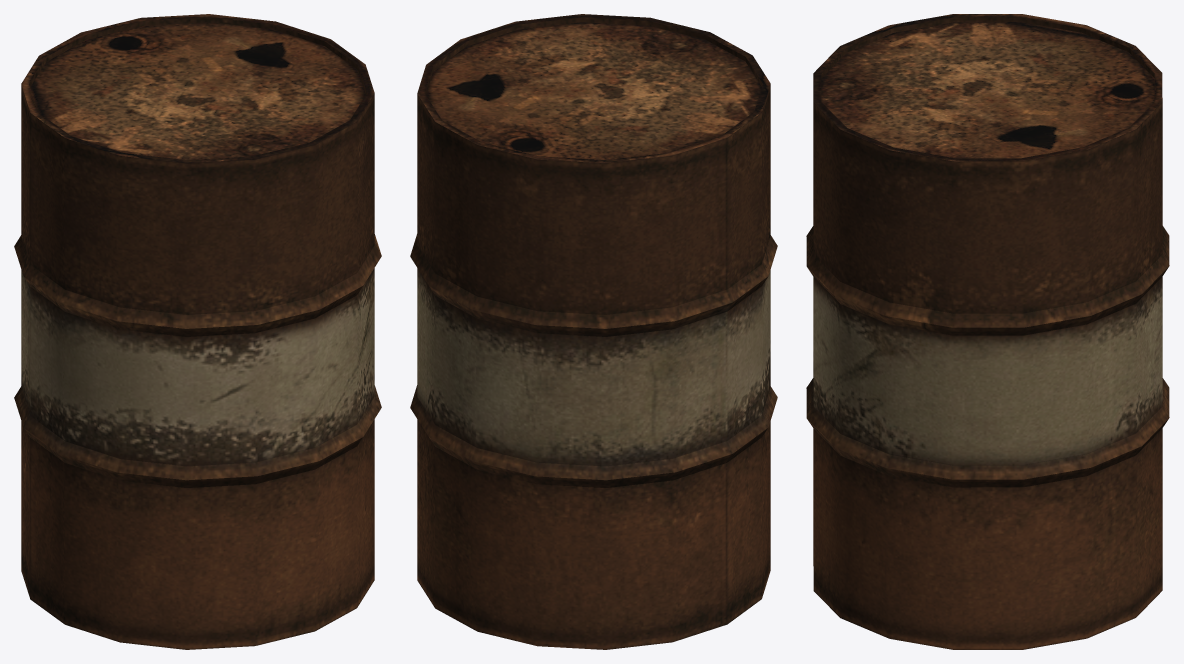
Rendered from metal_barrel_hr_2.obj.
The picture shows the model from 3 angles, left to right: view 1: azimuth 30°, elevation 25°; view 2: azimuth 150°, elevation 25°; view 3: azimuth 270°, elevation 25°; orthographic projection.
Visible parts, largest first — view 1: metal_barrel_hr_2; view 2: metal_barrel_hr_2; view 3: metal_barrel_hr_2.
Boxes of the visible parts, bbox=[...] form: metal_barrel_hr_2: bbox=[14, 14, 381, 649]; metal_barrel_hr_2: bbox=[410, 14, 777, 649]; metal_barrel_hr_2: bbox=[806, 14, 1169, 649].
Bounding box in the file's own units: 0.6735 × 1 × 0.6735.
